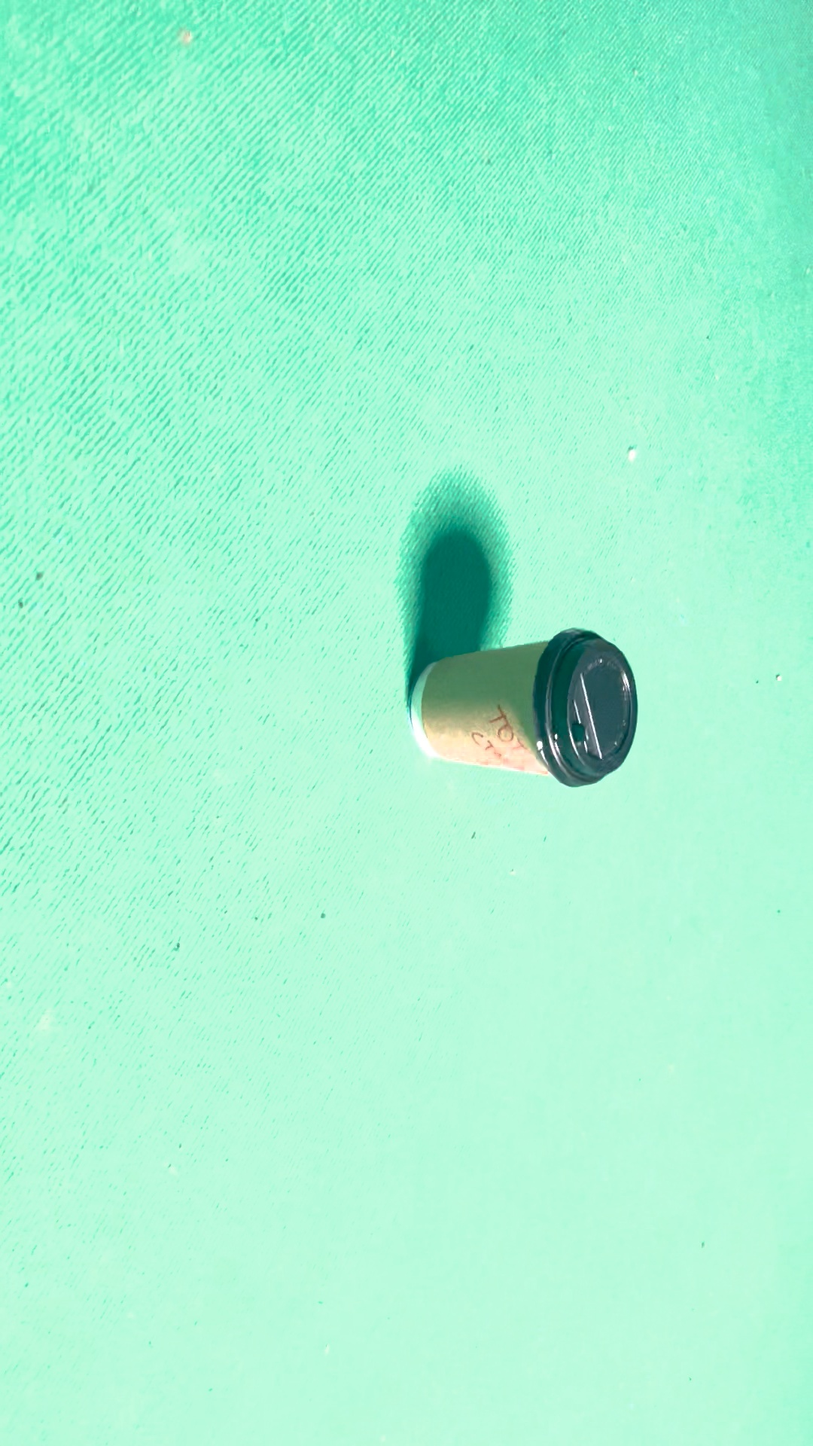cup: (409, 571, 488, 963)
